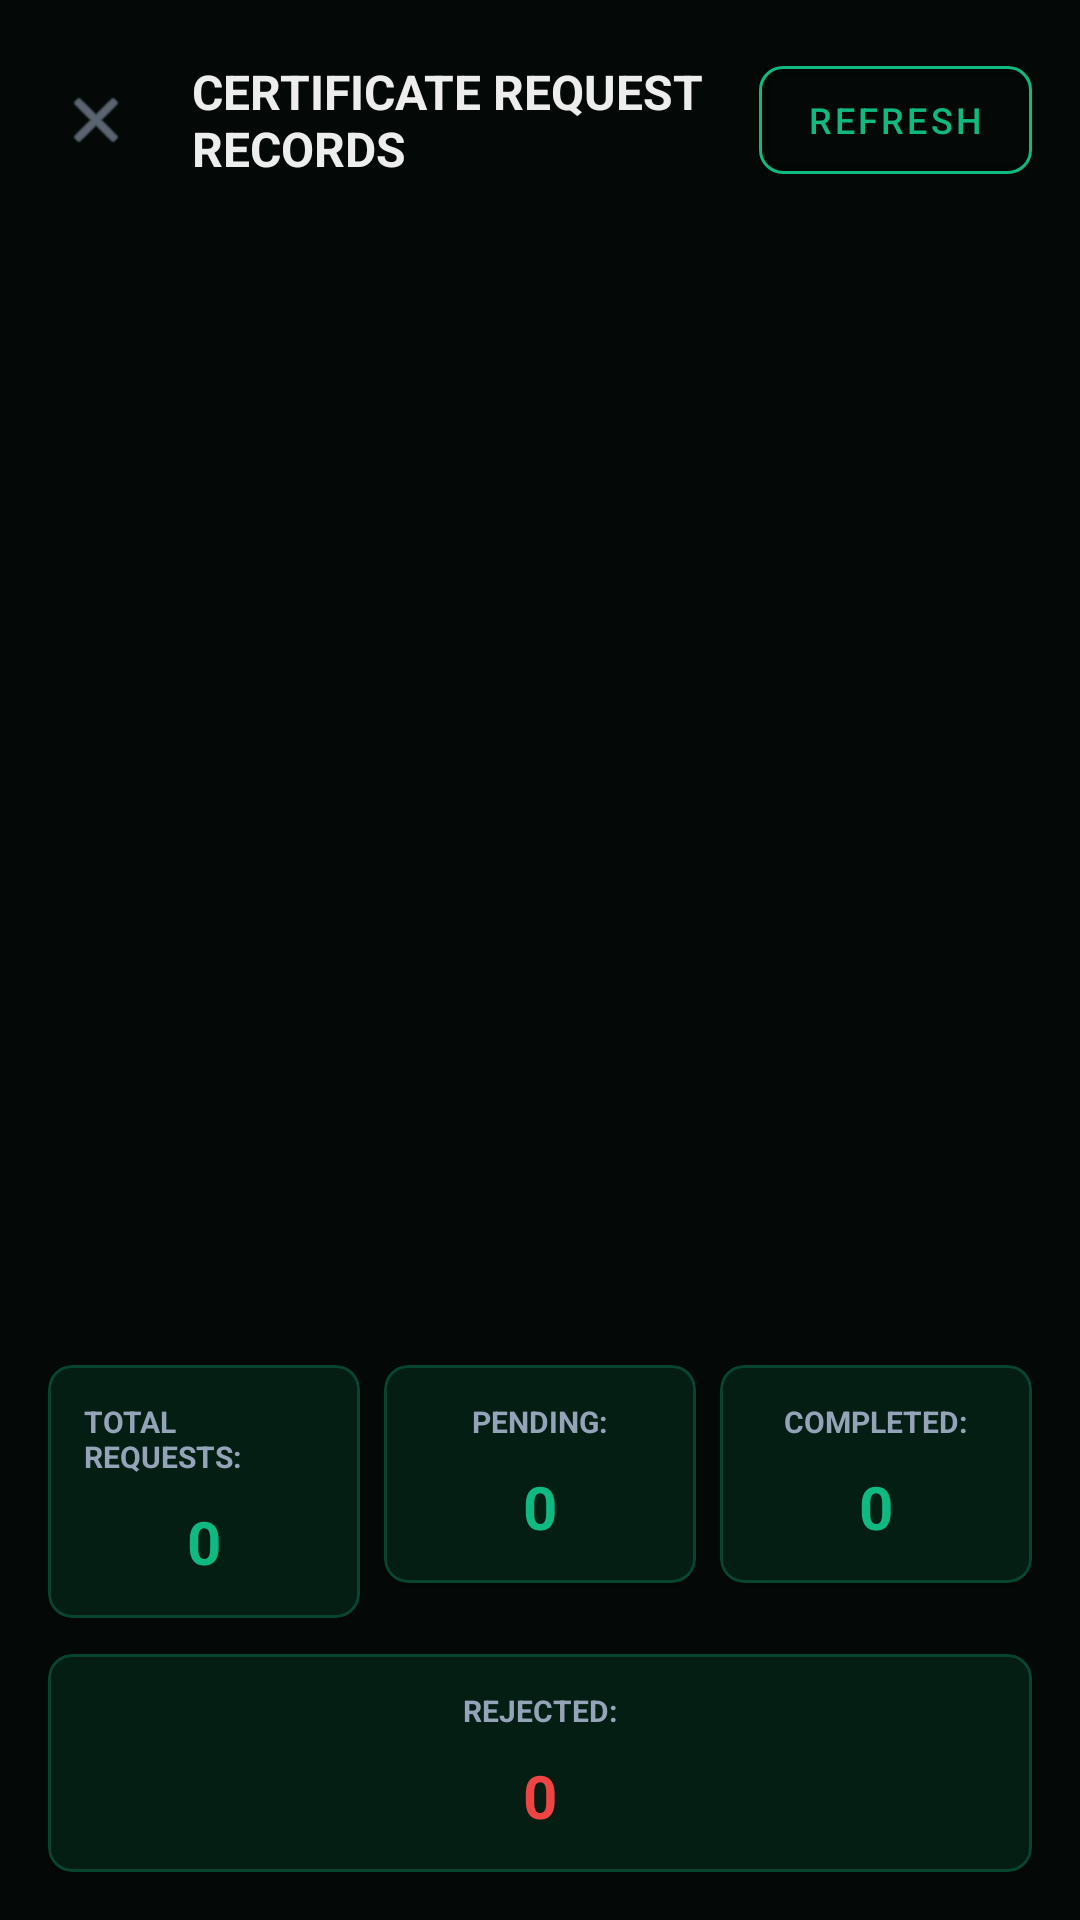

Named icons in this screenshot (1080px×1920px) and their centers, point (x, y):
close clear cancel: point (96, 120)
